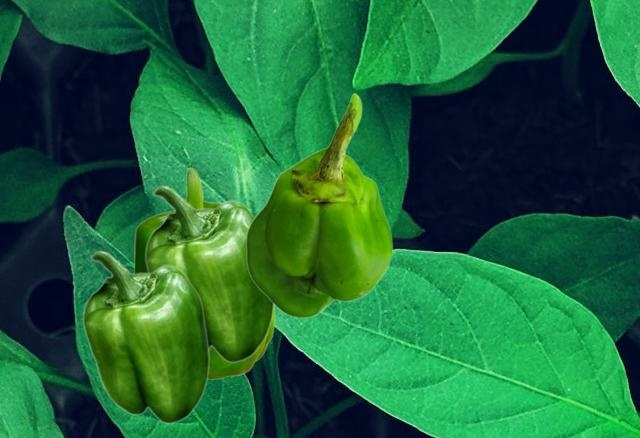bell_pepper: (245, 92, 392, 317), (133, 167, 274, 379), (144, 185, 274, 362), (82, 250, 209, 423)
